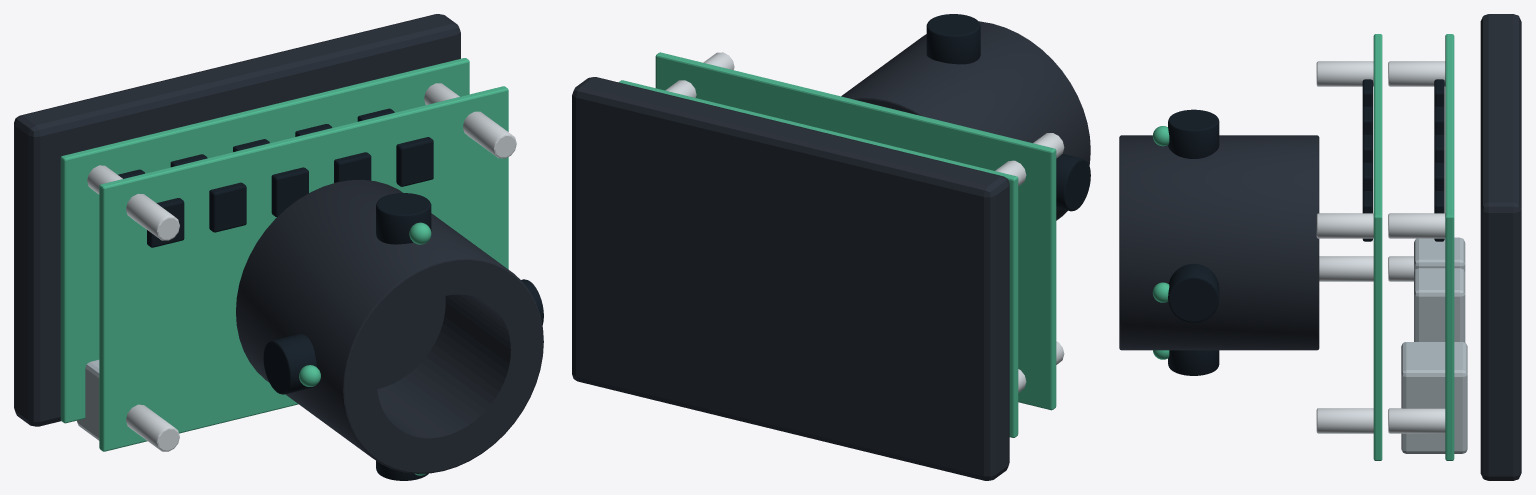
Rendered from pioreactor_20ml.glb.
The picture shows the model from 3 angles, left to right: view 1: azimuth 30°, elevation 25°; view 2: azimuth 150°, elevation 25°; view 3: azimuth 270°, elevation 25°; orthographic projection. The views are drawn at different scales.
Parts seen in each view (by area): view 1: Black vial holder, Electronics PCB, Board IC, Board standoff, Ethernet connector, Optical status LED; view 2: Black vial holder, Electronics PCB, Board IC, Board standoff; view 3: Black vial holder, Board standoff, Ethernet connector, Board IC, Electronics PCB, Optical status LED.
Part boxes in pixels (x1=…): Black vial holder: x1=14, y1=14, x2=543, y2=473; Electronics PCB: x1=60, y1=58, x2=508, y2=451; Board IC: x1=118, y1=108, x2=543, y2=480; Board standoff: x1=87, y1=83, x2=516, y2=451; Ethernet connector: x1=77, y1=360, x2=99, y2=440; Optical status LED: x1=299, y1=222, x2=431, y2=475; Black vial holder: x1=572, y1=21, x2=1090, y2=480; Electronics PCB: x1=619, y1=52, x2=1056, y2=437; Board IC: x1=926, y1=14, x2=1090, y2=211; Board standoff: x1=665, y1=52, x2=1064, y2=392; Black vial holder: x1=1119, y1=14, x2=1521, y2=480; Board standoff: x1=1316, y1=61, x2=1445, y2=433; Ethernet connector: x1=1401, y1=237, x2=1467, y2=453; Board IC: x1=1168, y1=79, x2=1444, y2=375; Electronics PCB: x1=1373, y1=34, x2=1454, y2=460; Optical status LED: x1=1152, y1=126, x2=1169, y2=359.
Bounding box in the file's own units: 0.09 × 0.0601 × 0.0785.
